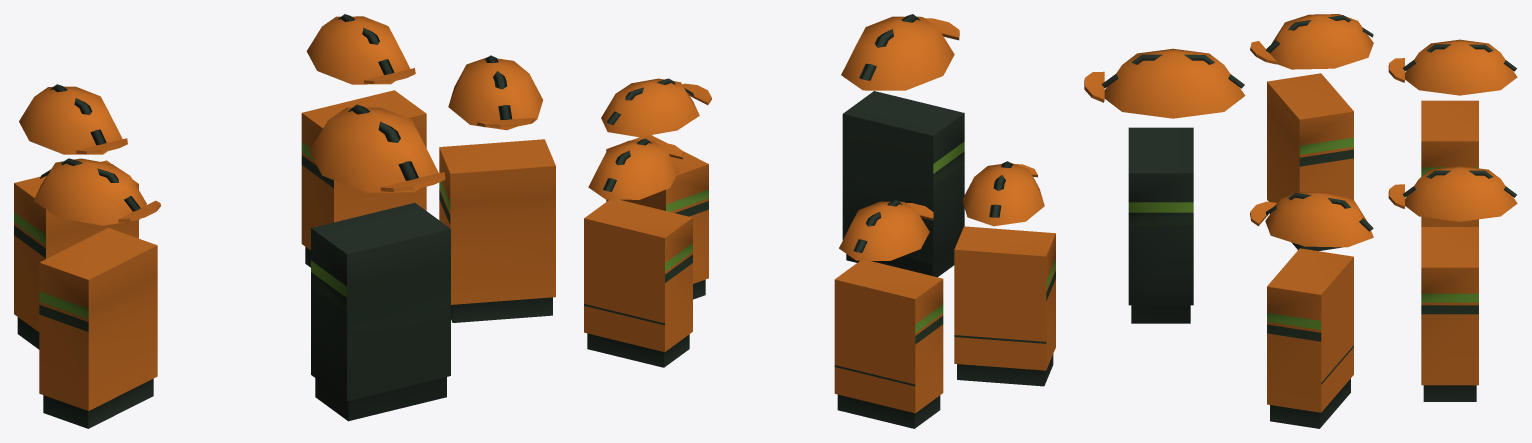
The model's file is trail-shredders-lod2.glb.
The picture shows the model from 3 angles, left to right: view 1: azimuth 30°, elevation 25°; view 2: azimuth 150°, elevation 25°; view 3: azimuth 270°, elevation 25°; orthographic projection. The views are drawn at different scales.
Visible parts, largest first — view 1: cap_torso, att3_torso, att2_torso, cap_hat, att0_torso, att1_torso, att3_hat, att0_hat, att1_hat, att2_hat; view 2: att1_torso, att0_torso, cap_torso, att3_torso, cap_hat, att2_hat, att0_hat, att1_hat, att2_torso, att3_hat; view 3: att2_torso, cap_torso, att0_torso, att3_torso, cap_hat, att0_hat, att1_hat, att2_hat, att3_hat, att1_torso.
Boxes of the visible parts, box(x1,y1,x2,y2) form: cap_torso: box(311, 203, 450, 421); att3_torso: box(39, 228, 157, 428); att2_torso: box(439, 139, 555, 322); cap_hat: box(309, 104, 445, 192); att0_torso: box(301, 90, 426, 267); att1_torso: box(14, 160, 138, 349); att3_hat: box(34, 158, 160, 225); att0_hat: box(306, 14, 415, 84); att1_hat: box(19, 84, 127, 154); att2_hat: box(448, 55, 542, 130); att1_torso: box(834, 260, 943, 428); att0_torso: box(584, 199, 692, 367); cap_torso: box(842, 91, 964, 277); att3_torso: box(954, 226, 1055, 386); cap_hat: box(841, 14, 959, 90); att2_hat: box(601, 78, 711, 137); att0_hat: box(588, 138, 683, 199); att1_hat: box(839, 199, 933, 260); att2_torso: box(606, 135, 708, 299); att3_hat: box(962, 161, 1044, 226); att2_torso: box(1267, 248, 1353, 428); cap_torso: box(1128, 127, 1193, 323); att0_torso: box(1421, 227, 1478, 401); att3_torso: box(1267, 73, 1353, 251); cap_hat: box(1084, 48, 1245, 118); att0_hat: box(1388, 166, 1517, 221); att1_hat: box(1388, 39, 1517, 95); att2_hat: box(1250, 192, 1373, 247); att3_hat: box(1250, 14, 1373, 69); att1_torso: box(1421, 100, 1478, 226).
Bounding box in the file's own units: 2.18 × 1.22 × 1.8.
